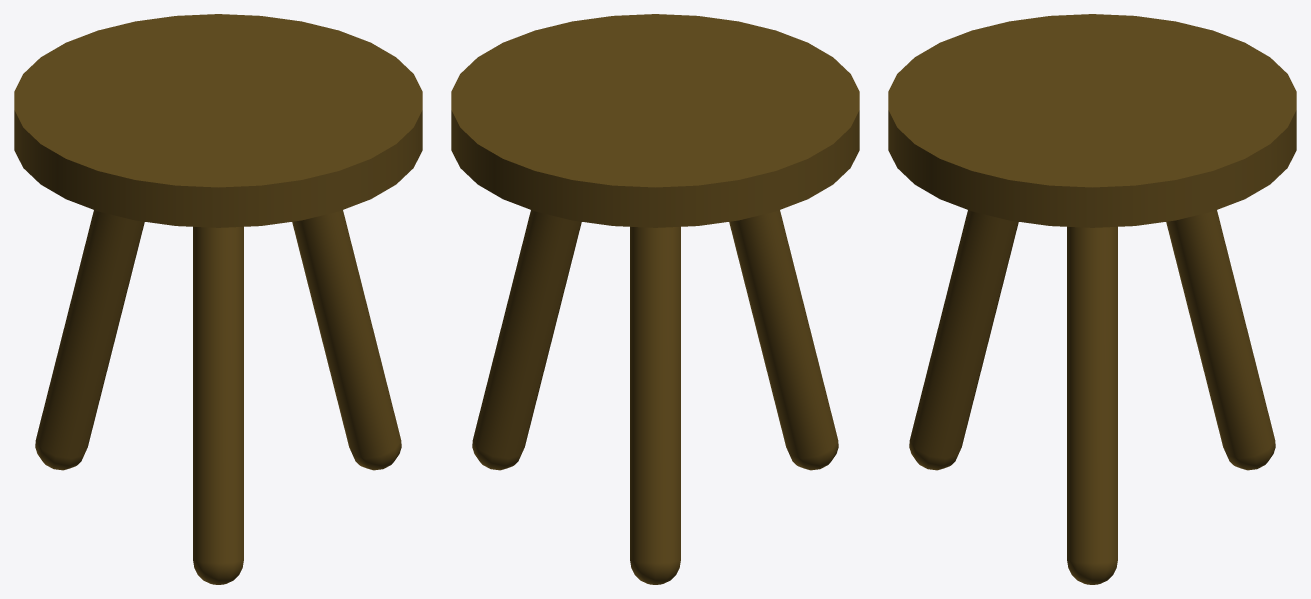
Rendered from SM_Stool.fbx.
The picture shows the model from 3 angles, left to right: view 1: azimuth 30°, elevation 25°; view 2: azimuth 150°, elevation 25°; view 3: azimuth 270°, elevation 25°; orthographic projection.
Parts seen in each view (by area): view 1: SM_Stool; view 2: SM_Stool; view 3: SM_Stool.
Boxes of the visible parts, box(x1,y1,x2,y2) form: SM_Stool: box(14, 14, 422, 584); SM_Stool: box(451, 14, 859, 584); SM_Stool: box(888, 14, 1296, 584).
Size of the model in its own units: 46.27 by 50.12 by 45.75.
